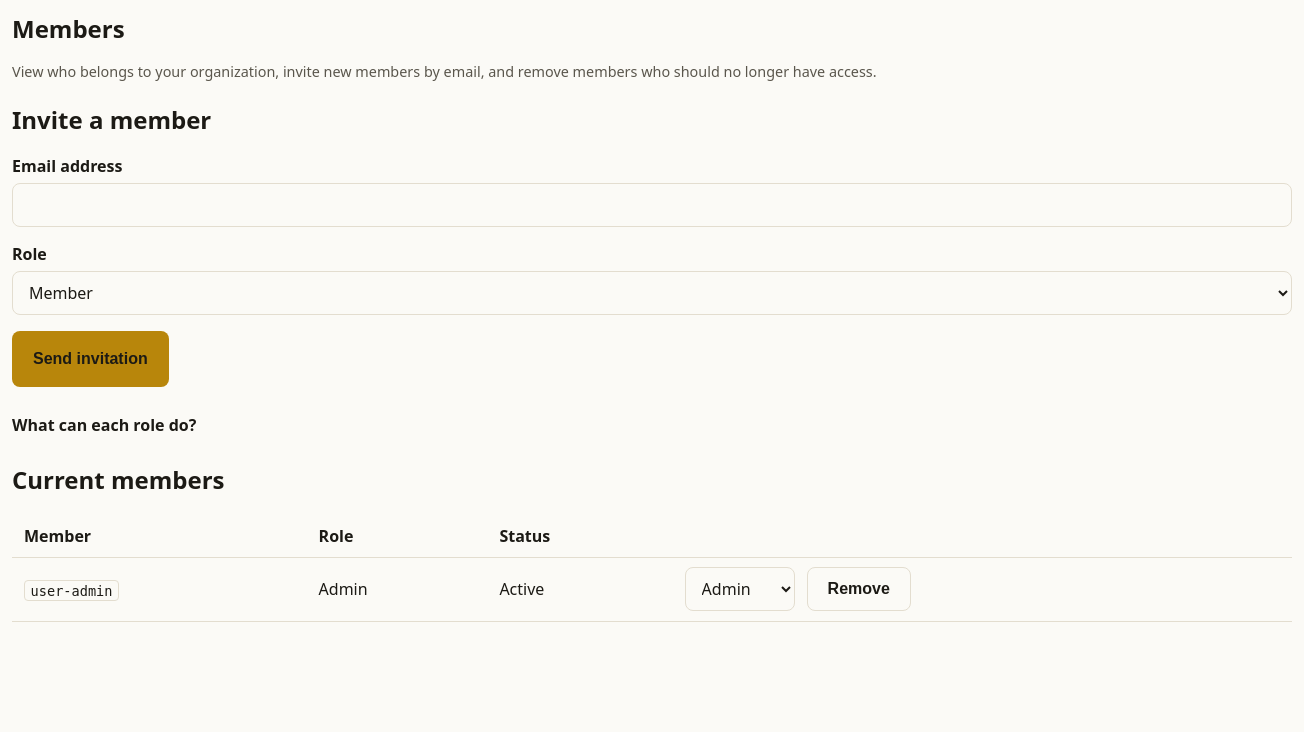
Test case: MemberManagement — invite (FR-ONB-3, D-3) › invites a member by email and sends the chosen role (NFR-ROL-1)
This screenshot has width=1304, height=732.
Expected: the text "user-admin" is shown, left=24, top=580, right=119, bottom=601
Type "new@hive.co" into the field labelled "Email address" at coordinates (652, 205), box left=12, top=183, right=1292, bottom=227
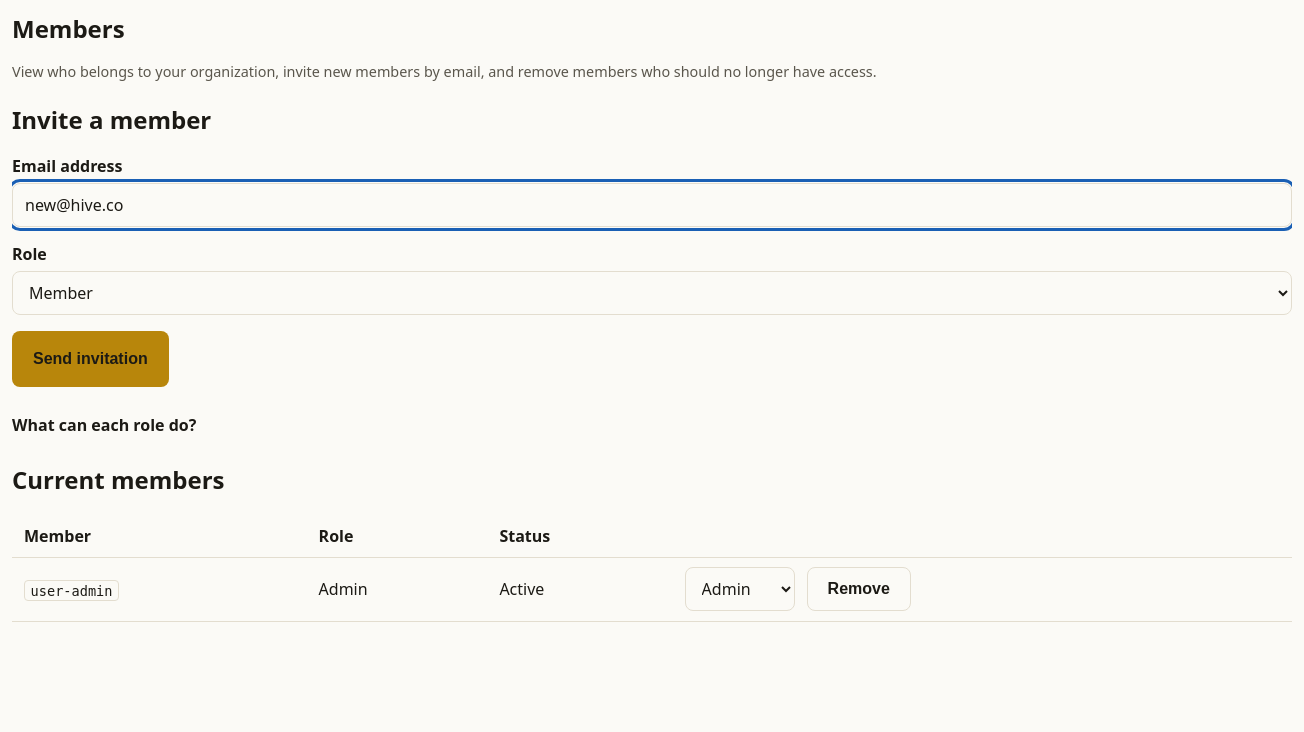
Target the invite role picker exactly — roster rows now also carry "…role…" labelled selects.
Select "Admin" in the dropdown labelled "Role" at coordinates (652, 293), box left=12, top=271, right=1292, bottom=315
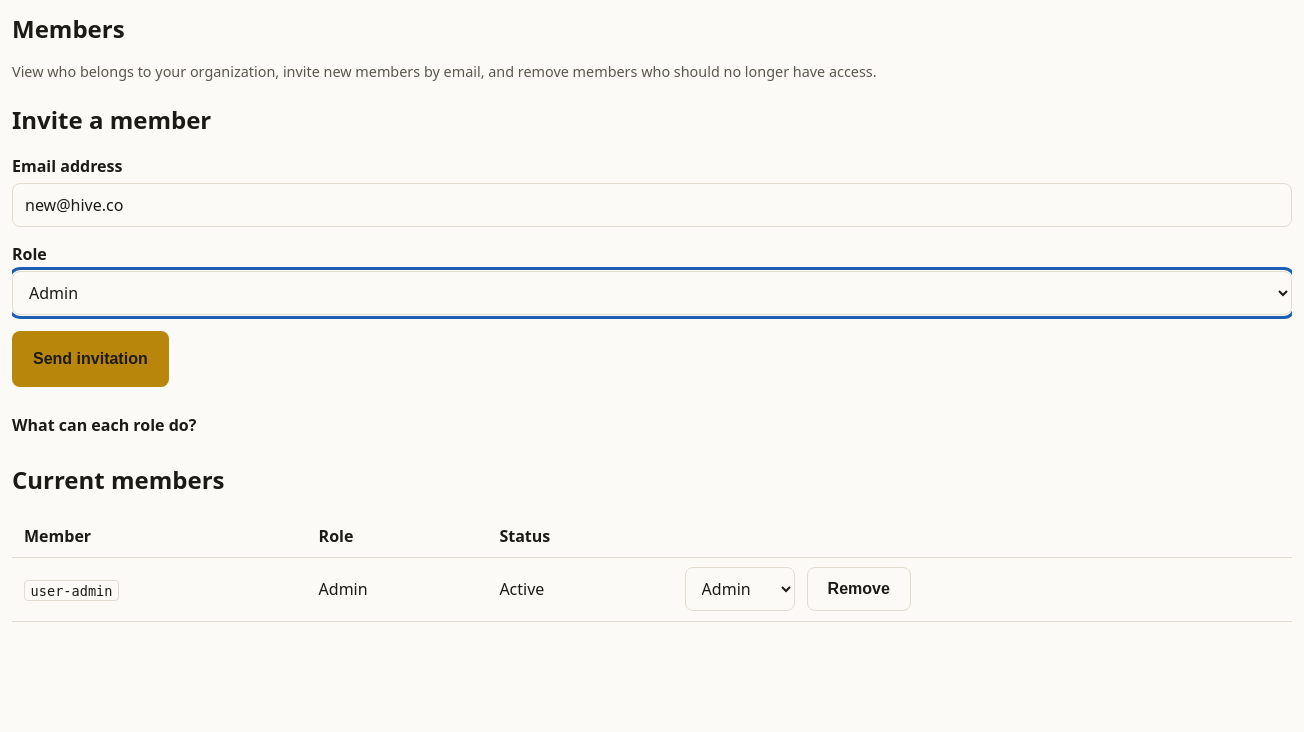
Click the button "Send invitation" at coordinates (90, 359), box left=12, top=331, right=169, bottom=387
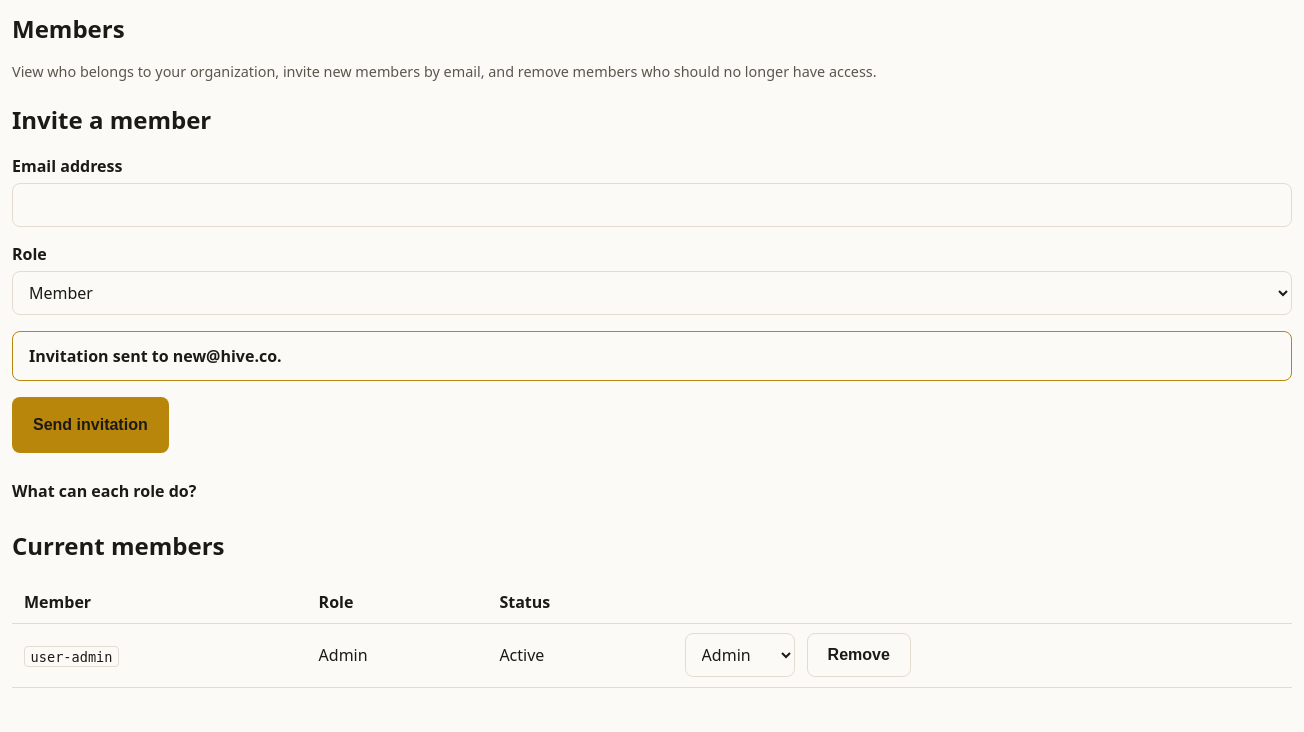
Now the message shows "Invitation sent to new@hive.co", box left=29, top=345, right=282, bottom=367
